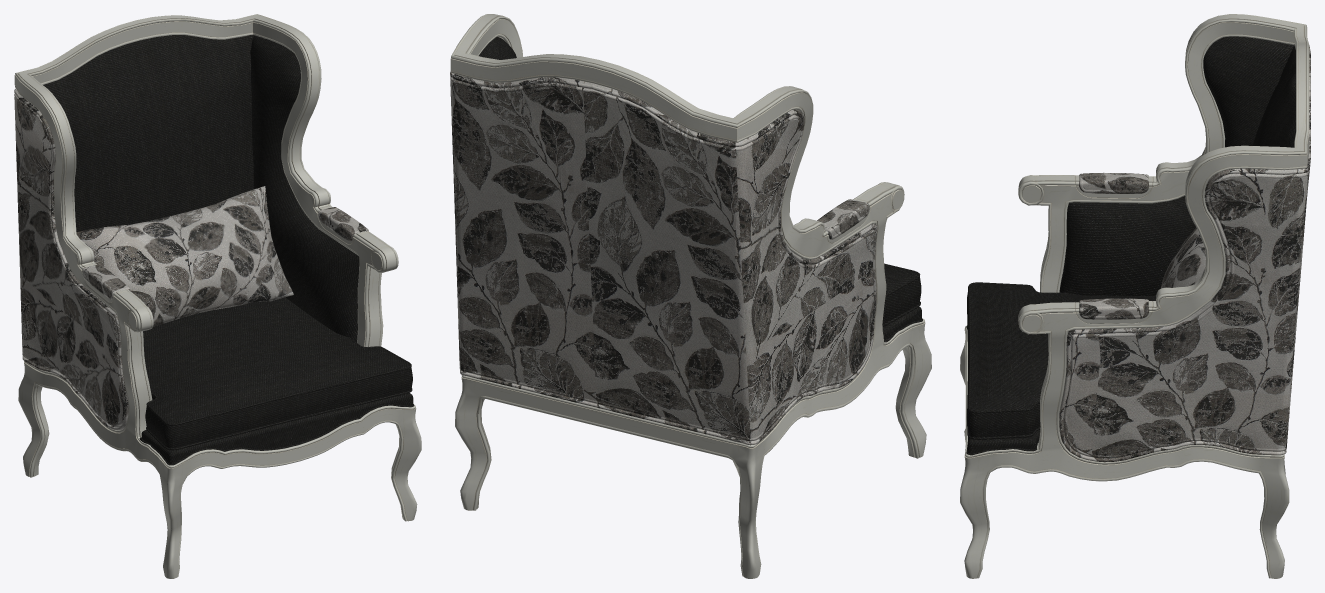
Rendered from example96.gltf.
The picture shows the model from 3 angles, left to right: view 1: azimuth 30°, elevation 25°; view 2: azimuth 150°, elevation 25°; view 3: azimuth 270°, elevation 25°; orthographic projection. The views are drawn at different scales.
Size of the model in its own units: 3.06 by 4.53 by 3.2.
4 materials, 3 textured.
